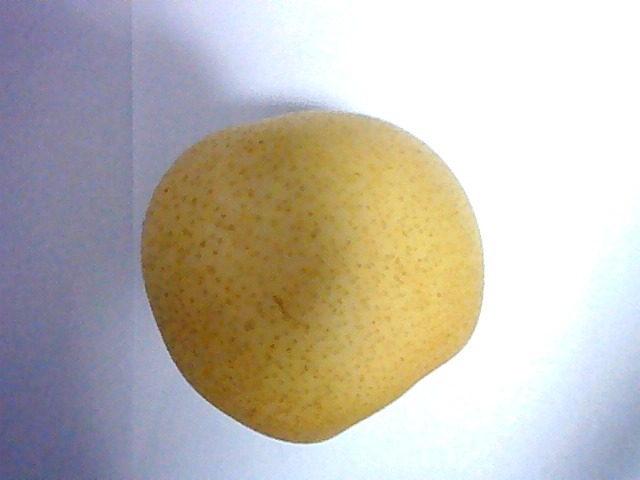pear: (135, 101, 494, 443)
